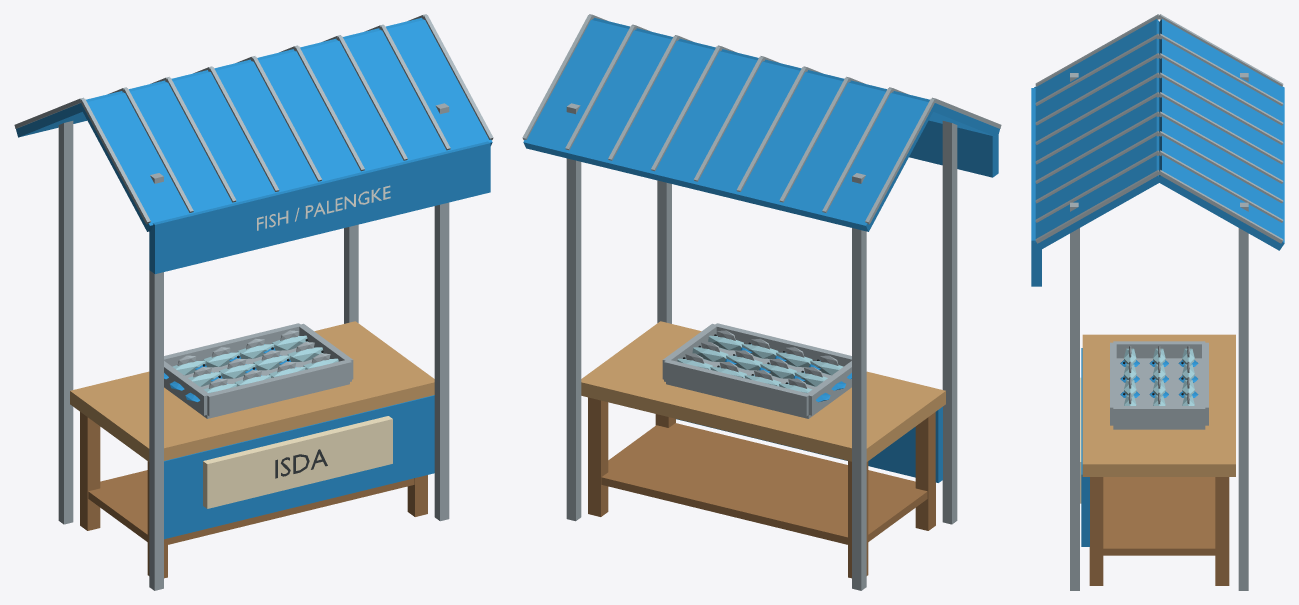
The model's file is TR_Stall_Fish.glb.
3 views of the same model, side by side, from view 1: azimuth 30°, elevation 25°; view 2: azimuth 150°, elevation 25°; view 3: azimuth 270°, elevation 25° (orthographic). The views are drawn at different scales.
Visible parts, largest first — view 1: TR_Stall_Fish; view 2: TR_Stall_Fish; view 3: TR_Stall_Fish.
Boxes of the visible parts, bbox=[...] form: TR_Stall_Fish: bbox=[14, 14, 493, 590]; TR_Stall_Fish: bbox=[522, 14, 1001, 590]; TR_Stall_Fish: bbox=[1031, 14, 1284, 590].
Bounding box in the file's own units: 2.43 × 3.1 × 1.66.
